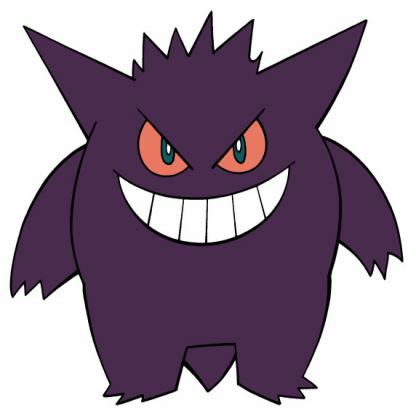Gengar: (5, 8, 413, 402)
